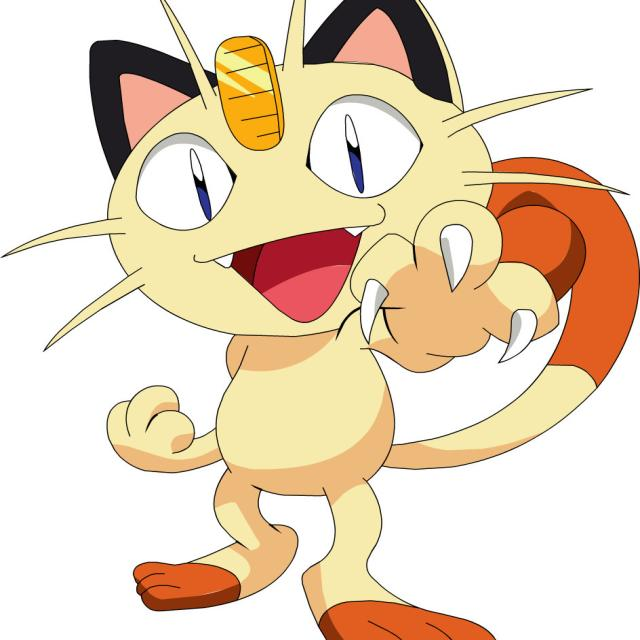Meowth: (89, 4, 534, 610)
